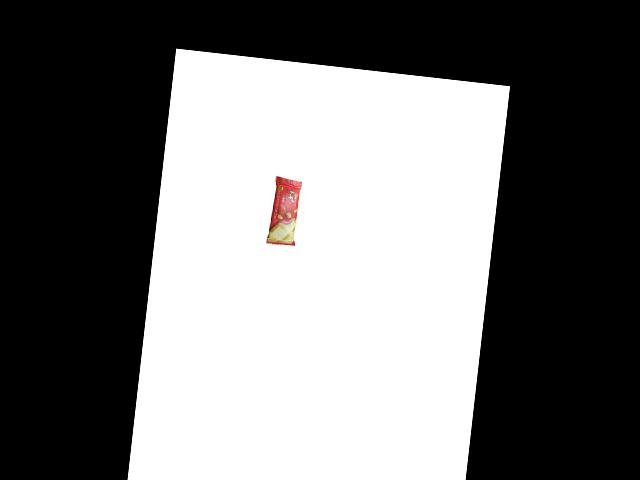chocolate: (261, 170, 304, 246)
